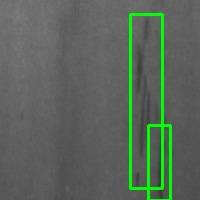inclusion: (130, 14, 162, 188), (148, 125, 170, 200)
